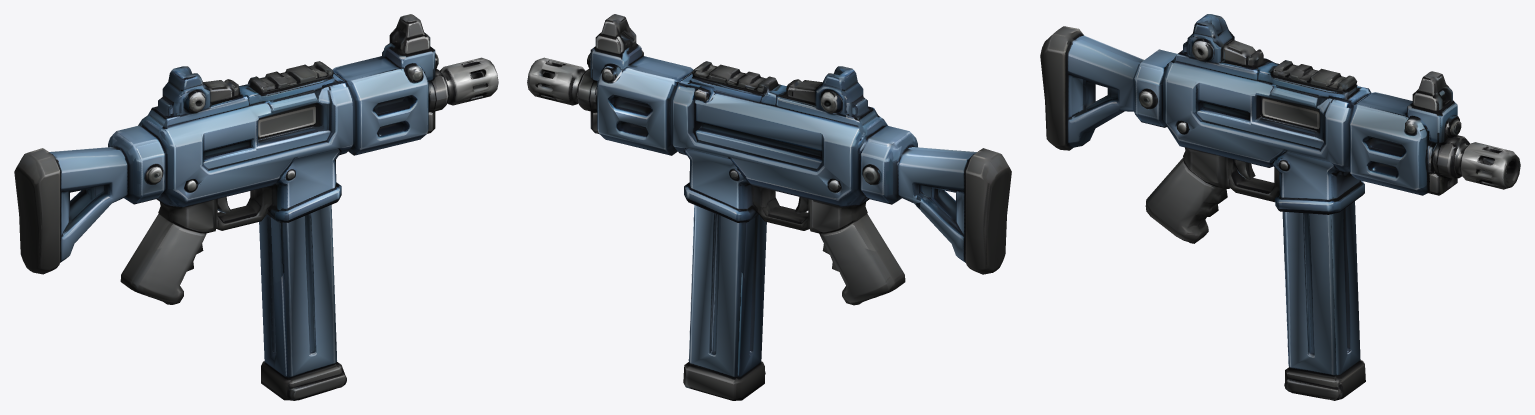
File: fp-smg.glb
3 views of the same model, side by side, from view 1: azimuth 30°, elevation 25°; view 2: azimuth 150°, elevation 25°; view 3: azimuth 330°, elevation 25° (orthographic).
Parts seen in each view (by area): view 1: body; view 2: body; view 3: body.
Part boxes in pixels (x1,y1,x2,y2): body: (14,14,498,400); body: (527,14,1011,400); body: (1040,14,1520,400).
Size of the model in its own units: 0.5 by 0.3519 by 0.0658.
Materials: 1 (1 with a texture image).
